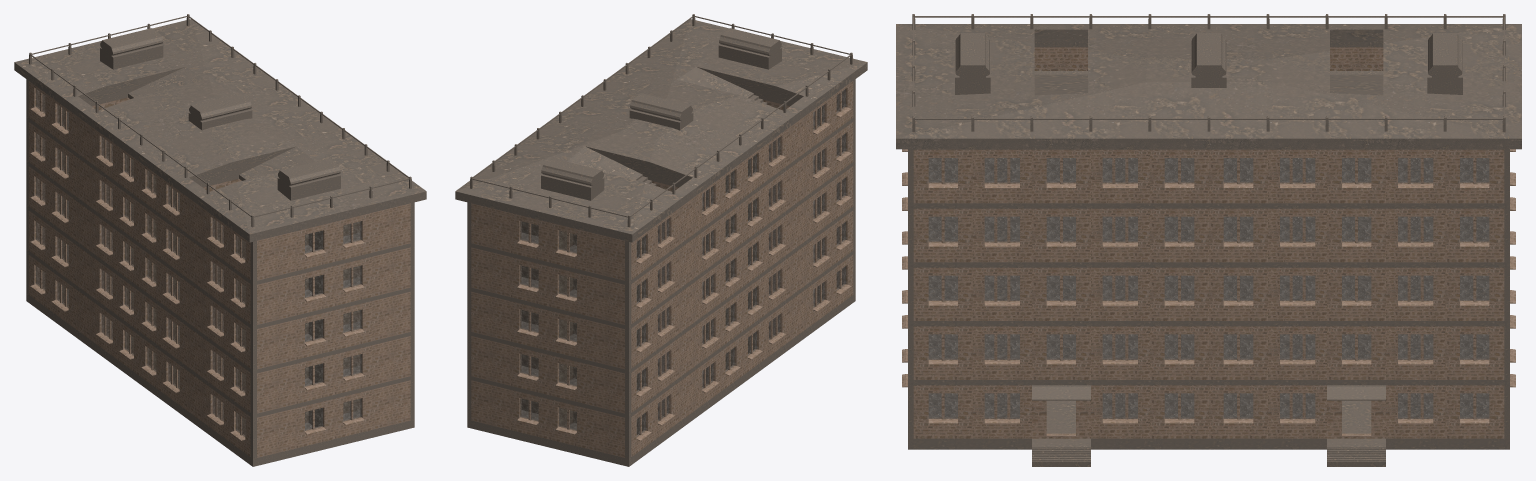
Rendered from col1.fbx.
3 views of the same model, side by side, from view 1: azimuth 30°, elevation 25°; view 2: azimuth 150°, elevation 25°; view 3: azimuth 270°, elevation 25° (orthographic). The views are drawn at different scales.
Visible parts, largest first — view 1: Building; view 2: Building; view 3: Building.
Boxes of the visible parts, <box> form: Building: <box>14,14,426,466</box>; Building: <box>455,14,867,466</box>; Building: <box>896,14,1521,466</box>.
Size of the model in its own units: 1020 by 1300 by 2120.
